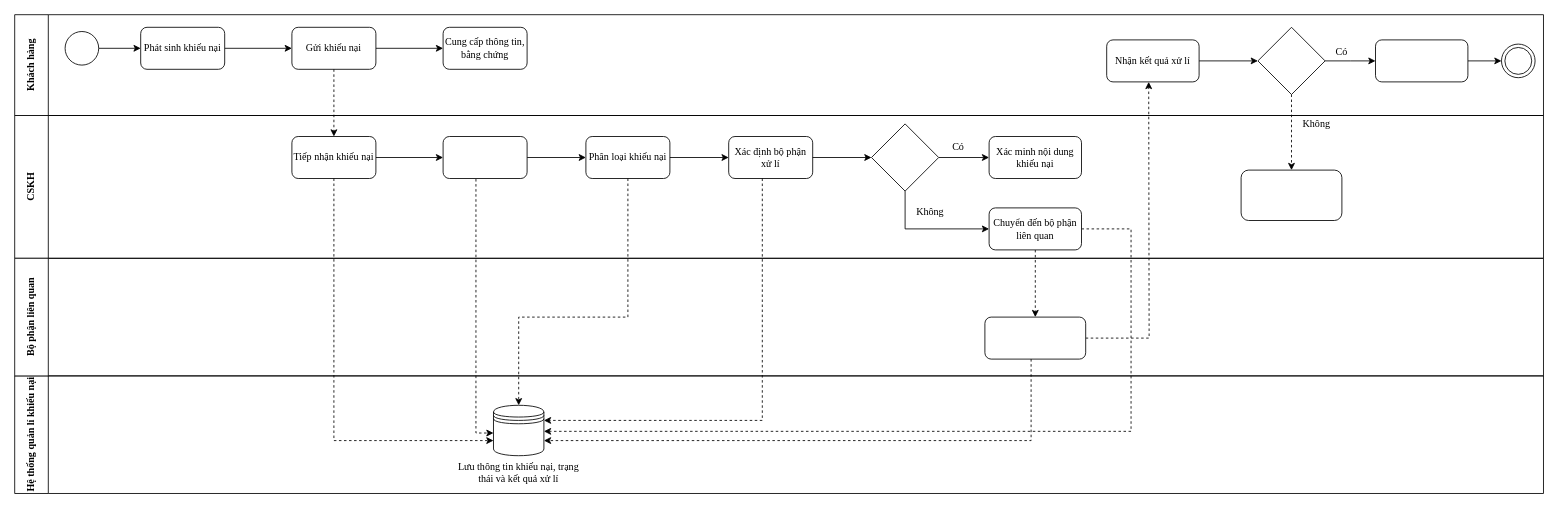
The diagram is 1558 pixels wide and 508 high, and some of its shapes have lost their labels. Each missing label, with the box of its shape:
CSKH xử lí được không?: (871, 123, 939, 191)
Kiểm tra thông tin: (442, 136, 527, 178)
Kết thúc khiếu nại: (1375, 39, 1468, 82)
Xem xét lại/Chuyển cấp xử lí cao hơn: (1240, 169, 1342, 220)
Xử lí nội dung khiếu nại: (984, 316, 1086, 359)
Đồng ý với kết quả ?: (1257, 26, 1325, 94)
